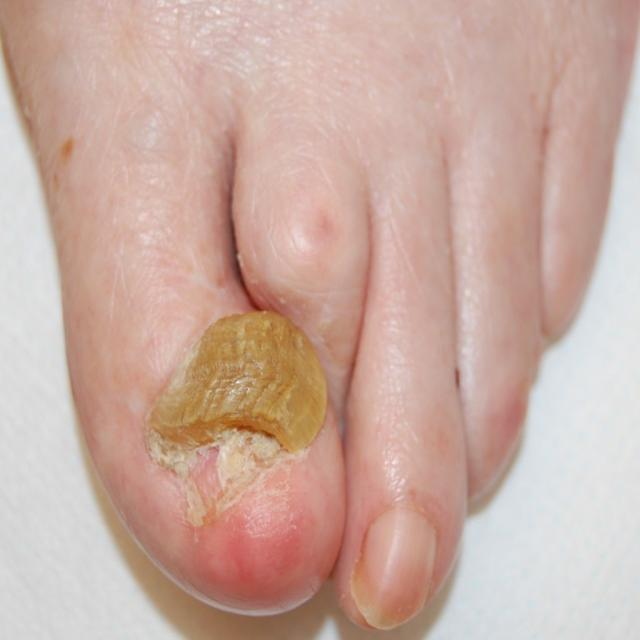diabetes: (141, 309, 328, 525)
